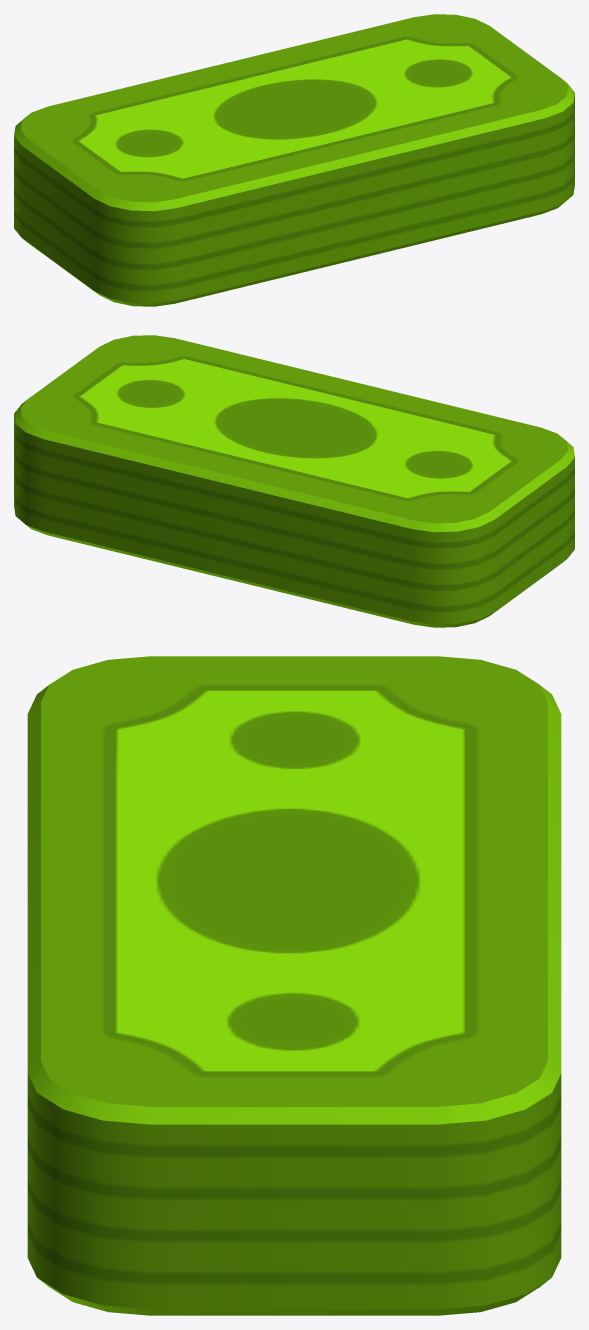
Rendered from money_1.fbx.
The picture shows the model from 3 angles, top to bottom: view 1: azimuth 30°, elevation 25°; view 2: azimuth 150°, elevation 25°; view 3: azimuth 270°, elevation 25°; orthographic projection. The views are drawn at different scales.
Visible parts, largest first — view 1: money_1; view 2: money_1; view 3: money_1.
Boxes of the visible parts, bbox=[...] form: money_1: bbox=[14, 14, 574, 306]; money_1: bbox=[14, 335, 574, 627]; money_1: bbox=[27, 656, 561, 1315].
Size of the model in its own units: 94.21 by 19.86 by 46.02.
